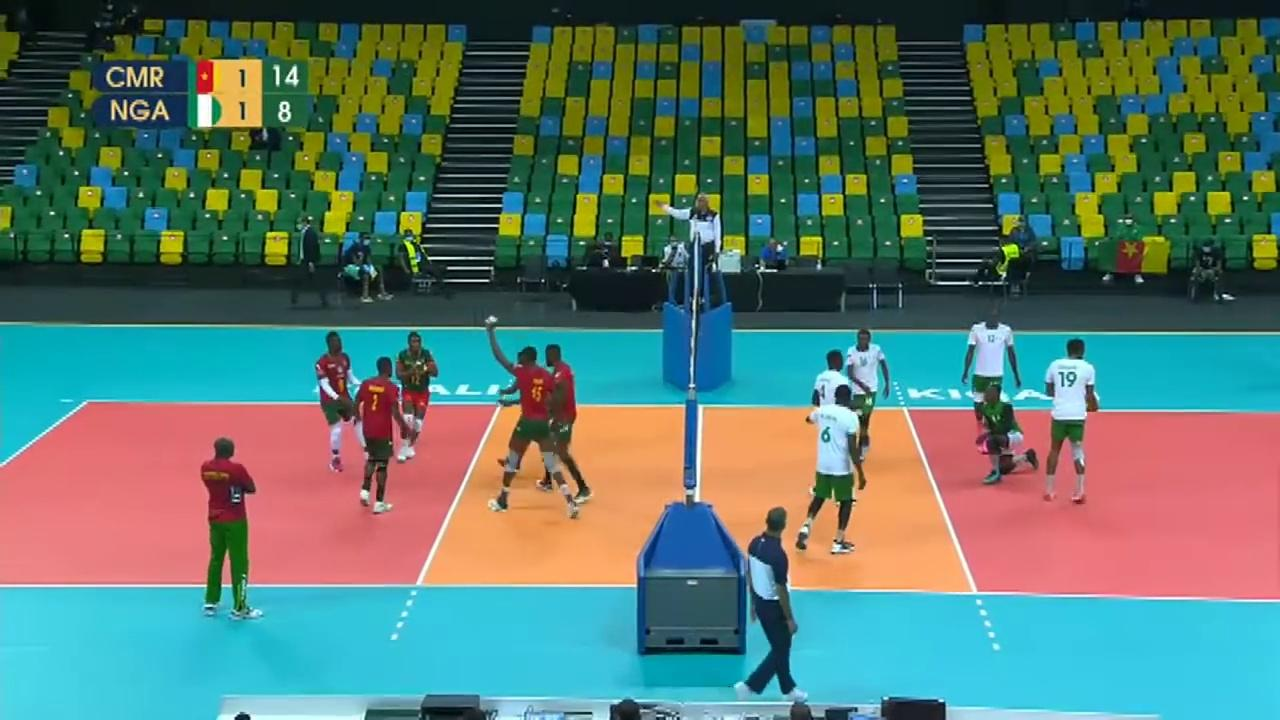player: (491, 342, 575, 516), (796, 384, 861, 558), (539, 342, 599, 514), (1040, 341, 1103, 504), (807, 353, 864, 507), (965, 306, 1025, 449), (354, 357, 401, 516), (314, 332, 366, 475), (978, 384, 1039, 484), (846, 330, 891, 461), (395, 336, 438, 464)
refree: (738, 511, 808, 701), (666, 189, 721, 299)
